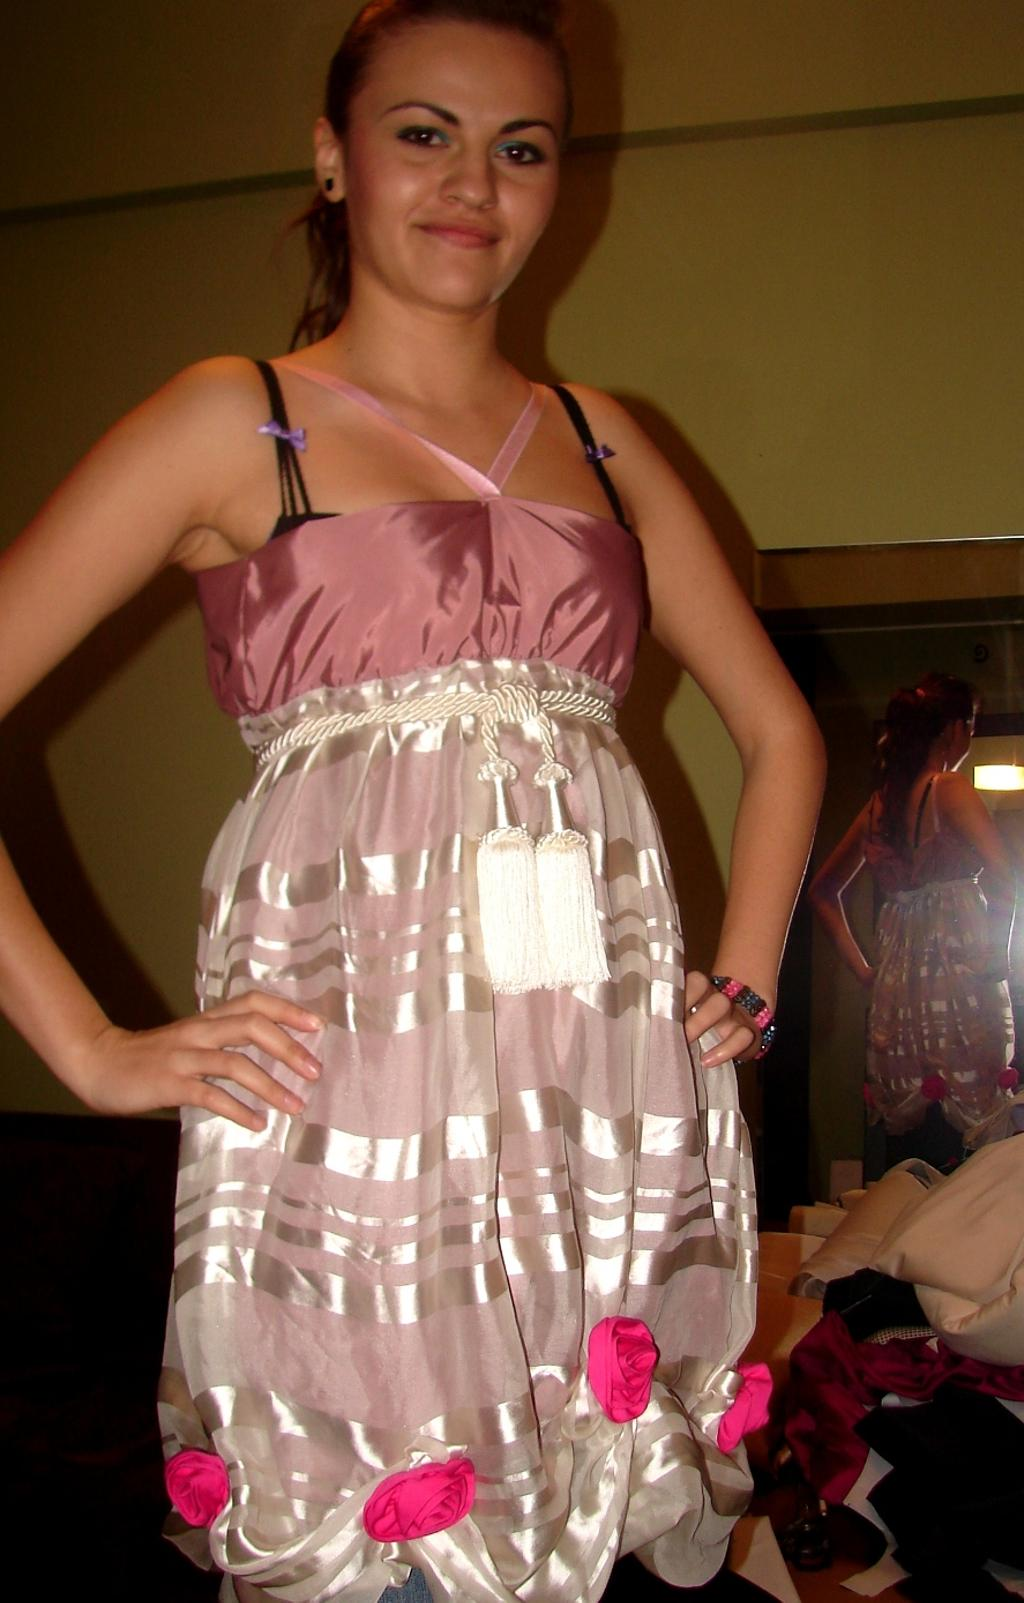face: (338, 19, 573, 307)
